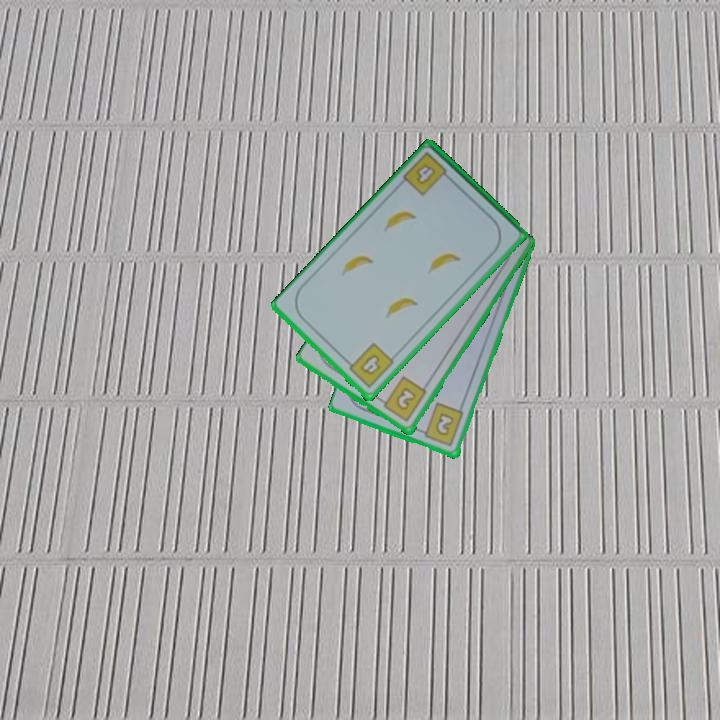2b: (376, 373, 429, 425), (416, 400, 466, 449)
4b: (342, 340, 397, 392), (399, 149, 456, 199)
